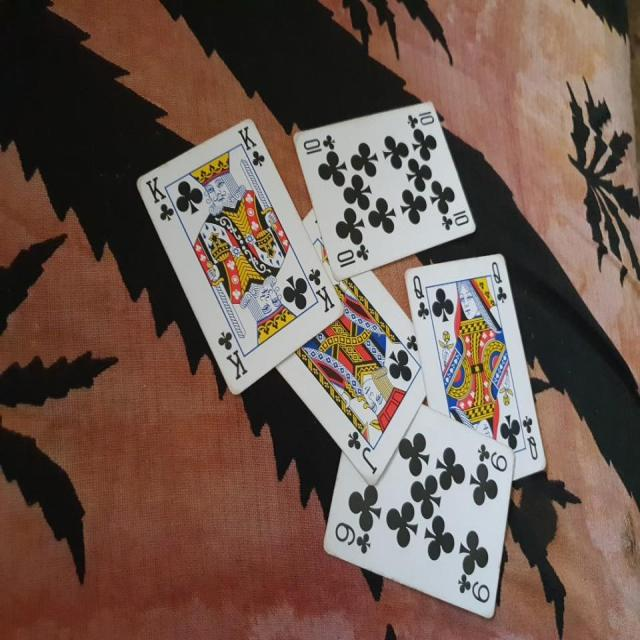10 Trefoils: (290, 100, 475, 284)
9 Trefoils: (319, 402, 514, 621)
J Trefoils: (269, 210, 426, 485)
K Trefoils: (134, 116, 344, 394)
Q Trefoils: (404, 250, 546, 481)
